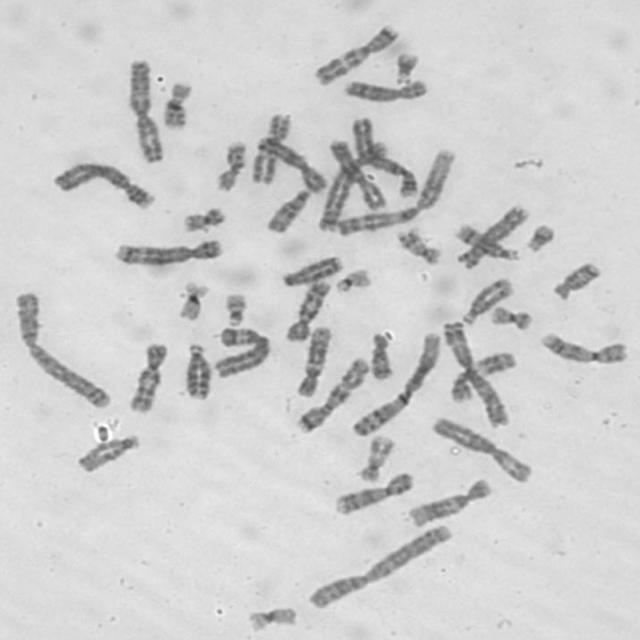A1: (326, 146, 458, 237), (347, 327, 445, 439)
A2: (302, 520, 456, 610), (11, 288, 114, 410)
A3: (439, 318, 512, 430), (126, 57, 164, 164)
B4: (347, 113, 421, 200), (49, 158, 159, 212)
B5: (316, 140, 394, 233), (110, 234, 226, 266)
C10: (282, 276, 334, 345), (124, 338, 170, 414)
C11: (447, 348, 518, 404), (248, 109, 294, 185)
C12: (404, 474, 494, 527), (292, 322, 334, 398)
C6: (427, 412, 536, 484), (210, 323, 272, 379)
C7: (294, 354, 371, 435), (310, 19, 403, 86)
C8: (454, 200, 530, 270), (341, 75, 430, 104)
C9: (331, 468, 417, 517), (537, 328, 630, 366)
D13: (280, 252, 346, 288), (182, 340, 213, 401)
D14: (456, 274, 515, 326), (452, 218, 521, 262)
D15: (72, 430, 142, 475), (262, 184, 313, 234)
E16: (211, 136, 248, 194), (160, 77, 196, 130)
E17: (355, 431, 396, 484), (392, 225, 444, 265)
E18: (548, 259, 602, 301), (366, 330, 394, 381)
F19: (243, 603, 299, 633), (173, 278, 210, 321)
F20: (178, 202, 228, 233), (487, 302, 534, 331)
G21: (390, 47, 421, 86), (522, 220, 556, 254)
G22: (220, 288, 248, 328), (333, 266, 372, 293)
X: (324, 137, 390, 214), (254, 134, 329, 193)
